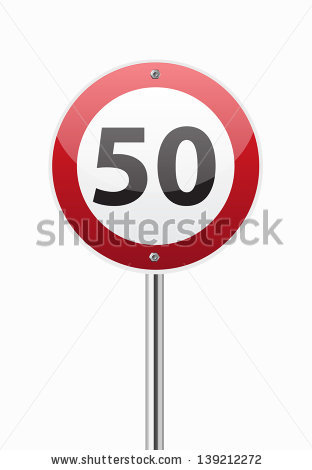Speed_limit_50km: (50, 62, 263, 272)
